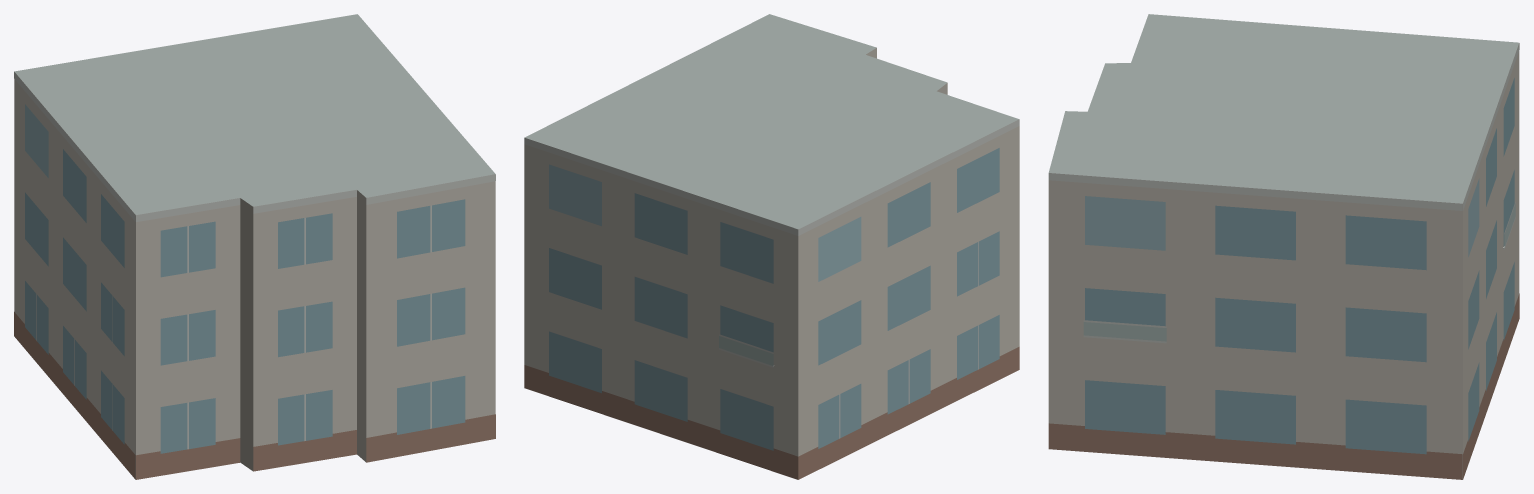
Rendered from survey-upis-32690517.glb.
The picture shows the model from 3 angles, left to right: view 1: azimuth 30°, elevation 25°; view 2: azimuth 150°, elevation 25°; view 3: azimuth 270°, elevation 25°; orthographic projection. The views are drawn at different scales.
Parts seen in each view (by area): view 1: survey-upis-32690517.tmp; view 2: survey-upis-32690517.tmp; view 3: survey-upis-32690517.tmp.
Part boxes in pixels (x1,y1,x2,y2): survey-upis-32690517.tmp: [14, 14, 495, 479]; survey-upis-32690517.tmp: [524, 14, 1019, 479]; survey-upis-32690517.tmp: [1048, 14, 1519, 479].
Size of the model in its own units: 13.49 by 9.15 by 14.15.
